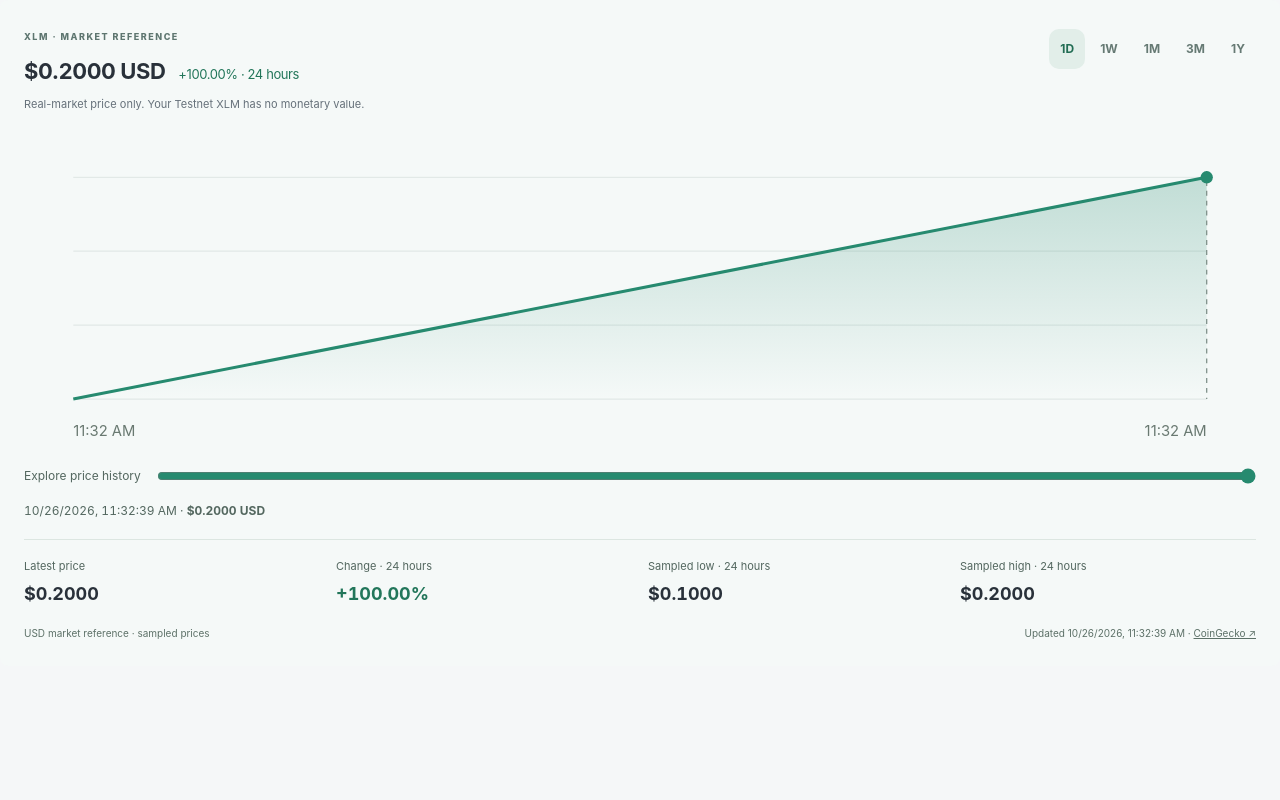
renders actual market data separately from test funds and clears it when another period fails
This screenshot has width=1280, height=800.
Expected: the picture named "XLM price in USD" is shown, top-left (24, 128), bottom-right (1256, 448)
Expected: the text "Testnet XLM has no monetary value" is shown, top-left (24, 97), bottom-right (364, 111)
What coordinates should you click on to do the following:
click the button "1W"
I would click on:
 (1109, 49)
Its box is top-left (1089, 29), bottom-right (1129, 69).
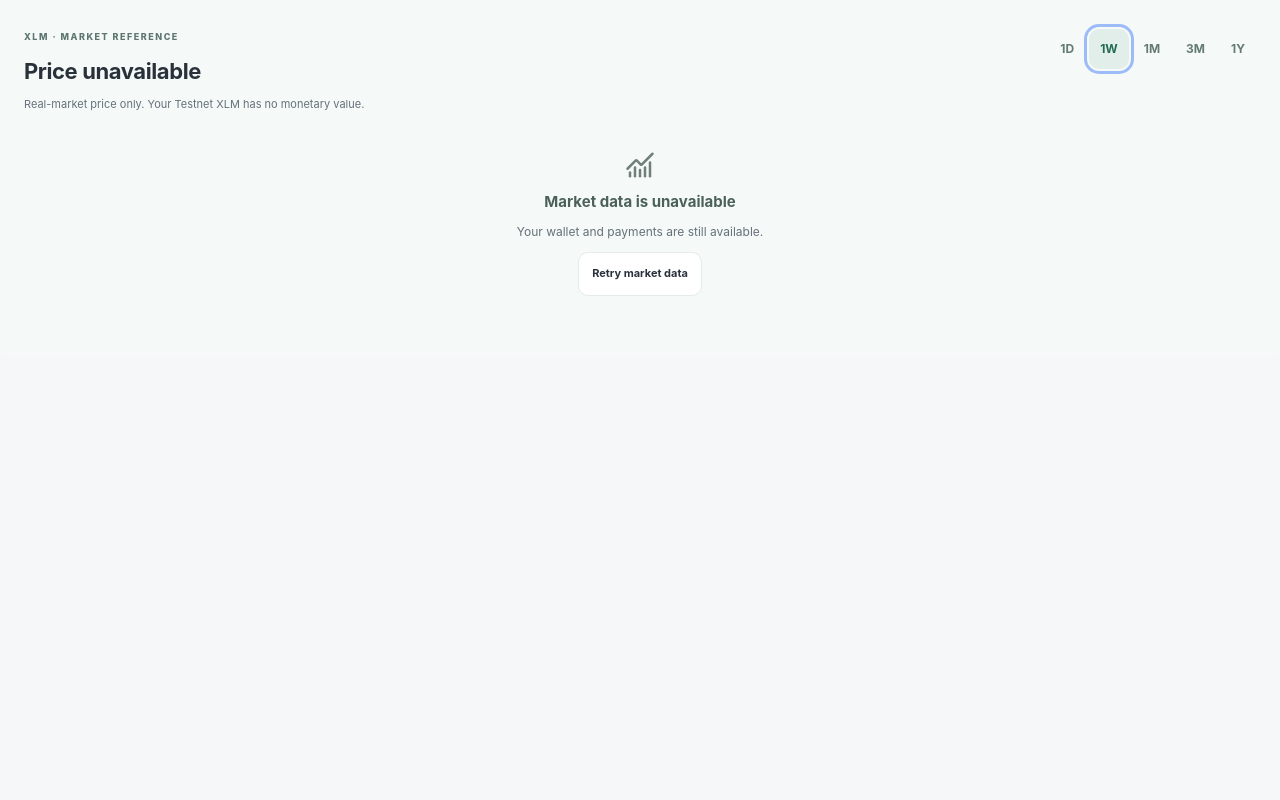
Now the text "Market data is unavailable" is shown, box top-left (544, 190), bottom-right (736, 213)
Now the picture is gone
